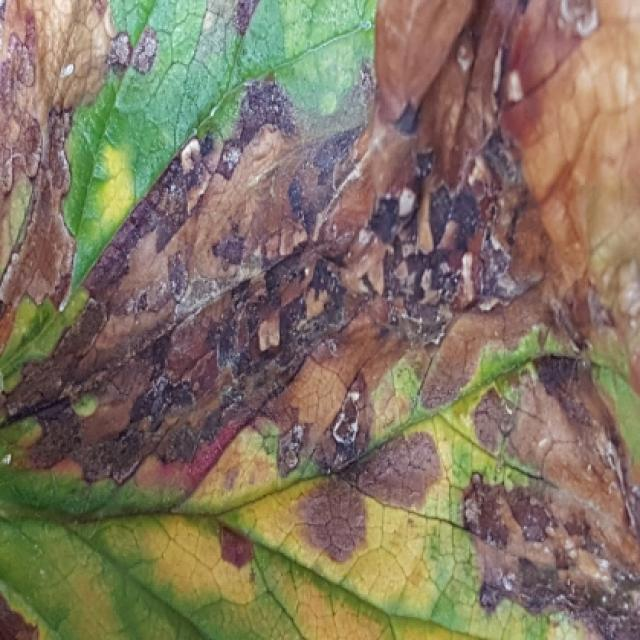Angular Leafspot: (0, 0, 638, 638)
